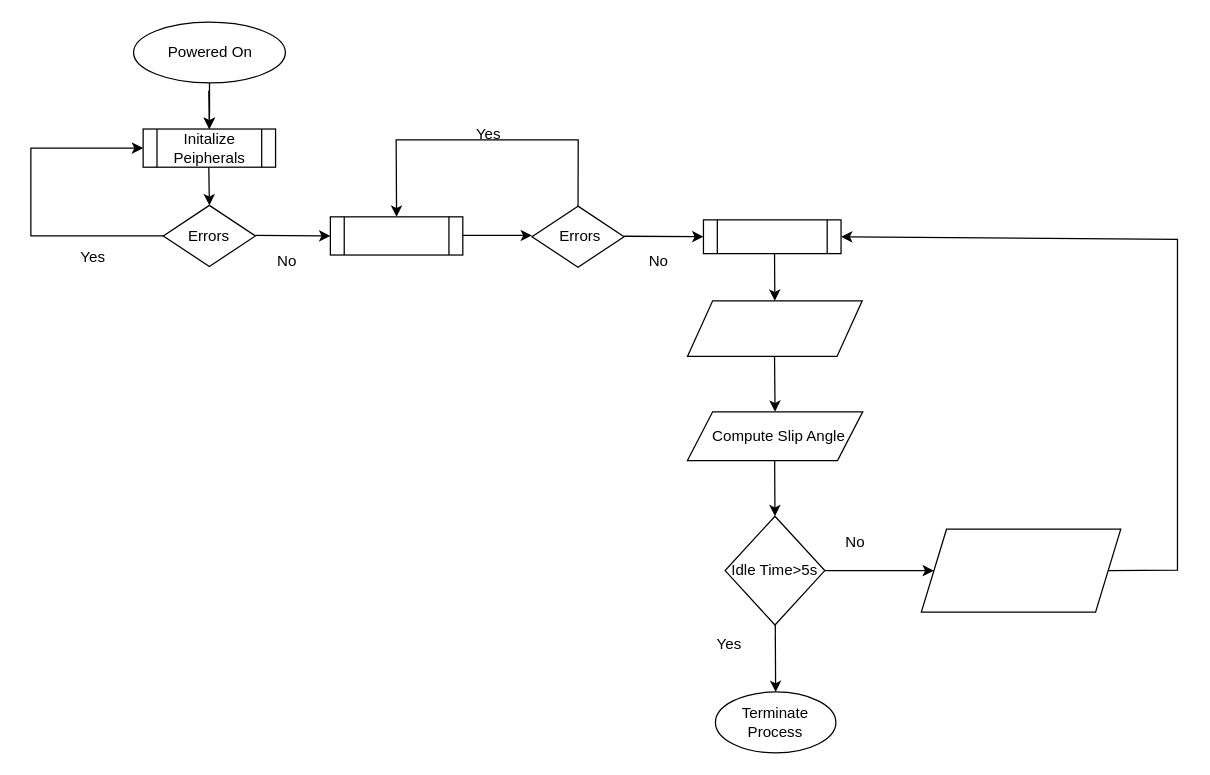
Image size: 1210x775. Some labels were removed from this diagram. The centre of each missing label's shape, as x and y in pixels:
Initialize Sensors: (x=396, y=235)
Log Data Through CAN: (x=1020, y=570)
Read PAW3515DB & BNO55: (x=774, y=328)
While Loop: (x=771, y=236)
